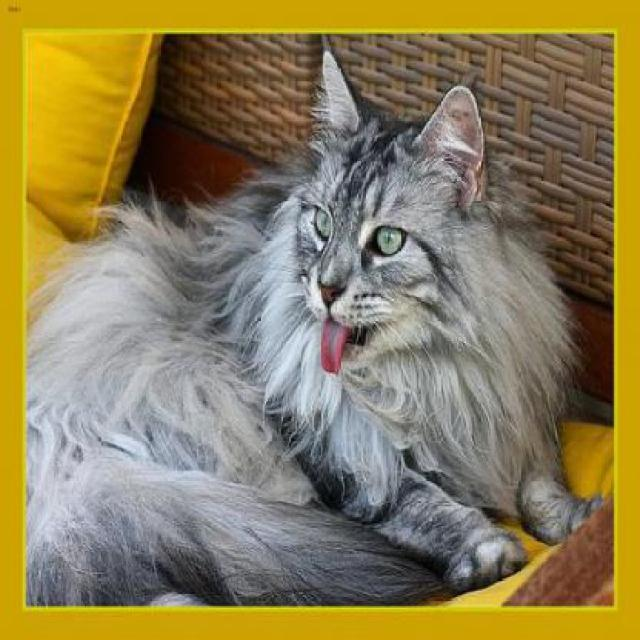cat: (24, 53, 596, 607)
